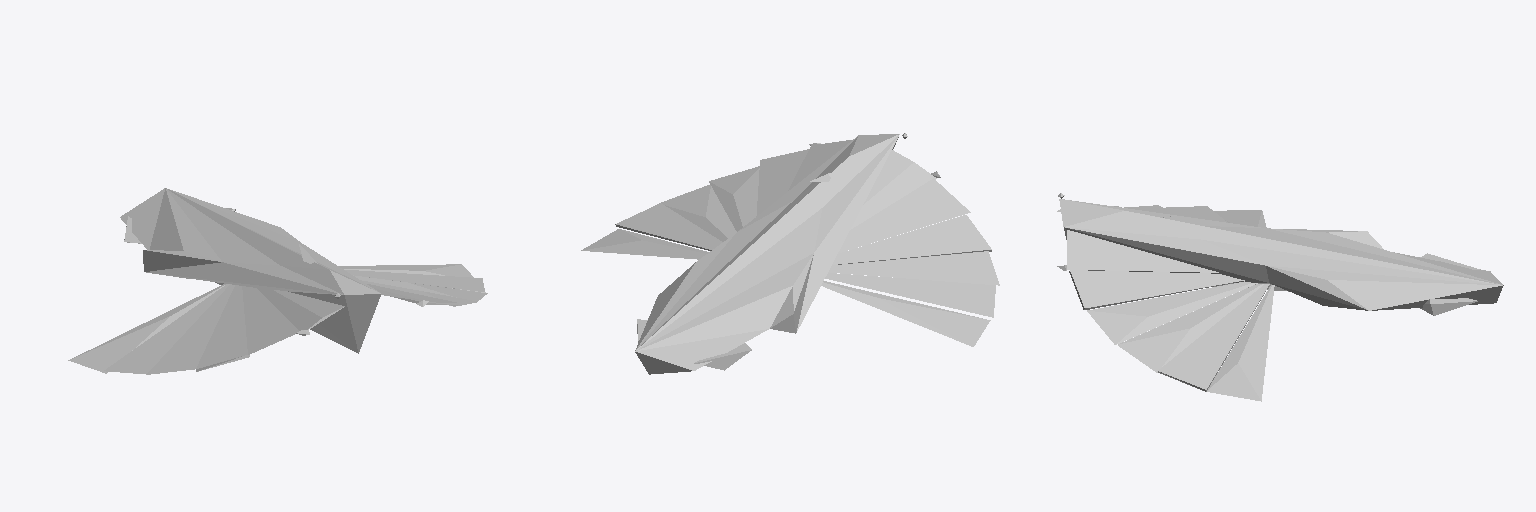
Rendered from fig11_3.obj.
3 renders of one model, left to right at view 1: azimuth 30°, elevation 25°; view 2: azimuth 150°, elevation 25°; view 3: azimuth 270°, elevation 25°, orthographic.
Parts seen in each view (by area): view 1: $dummy_node; view 2: $dummy_node; view 3: $dummy_node.
Boxes of the visible parts, box(x1,y1,x2,y2) form: $dummy_node: box(68, 188, 487, 374); $dummy_node: box(581, 133, 999, 374); $dummy_node: box(1057, 193, 1503, 401).
Bounding box in the file's own units: 5.06 × 1.23 × 4.98.